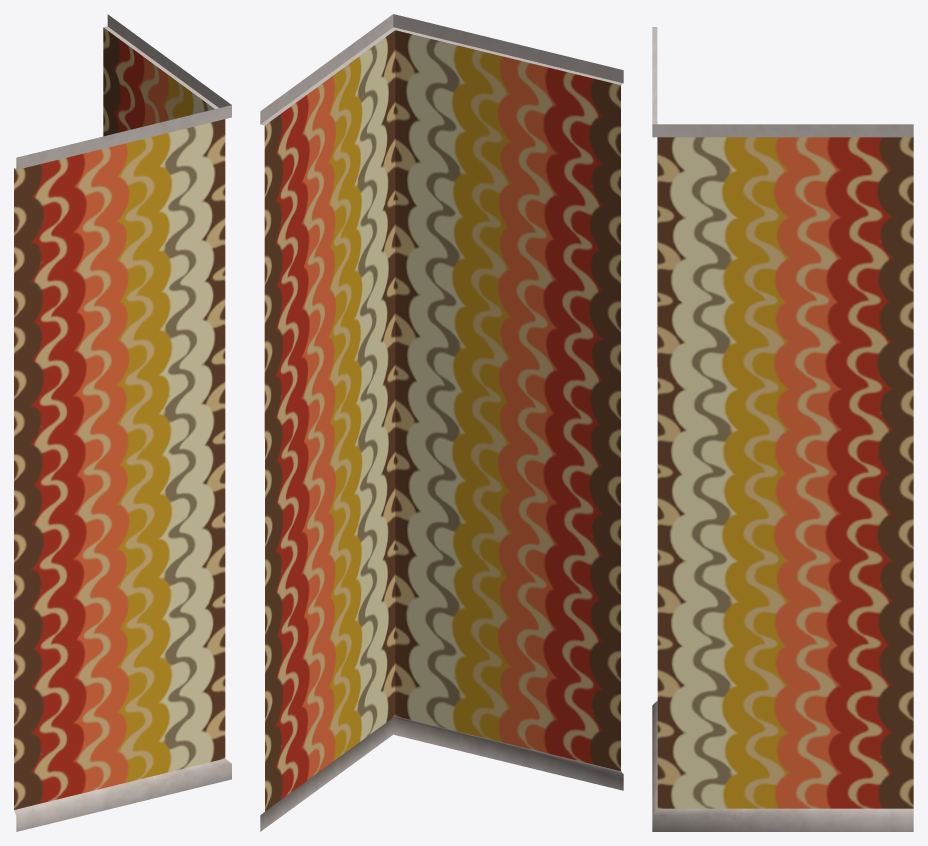
File: MT_WP_OpenCorner.fbx
3 renders of one model, left to right at view 1: azimuth 30°, elevation 25°; view 2: azimuth 150°, elevation 25°; view 3: azimuth 270°, elevation 25°, orthographic. The views are drawn at different scales.
Parts seen in each view (by area): view 1: OpenCorner; view 2: OpenCorner; view 3: OpenCorner.
Boxes of the visible parts, x1,y1,x2,y2 form: OpenCorner: (14,14,231,831); OpenCorner: (260,14,623,831); OpenCorner: (652,27,913,831).
Bounding box in the file's own units: 102 × 305 × 102.
